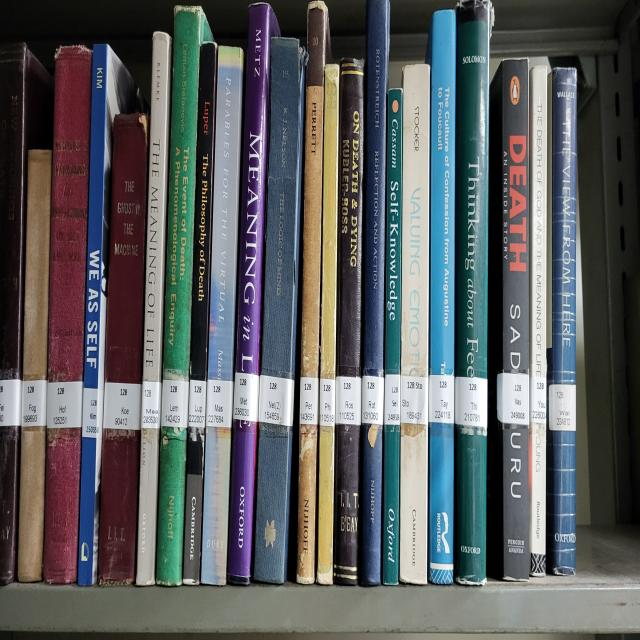Book: (78, 43, 139, 584), (156, 5, 212, 584), (228, 3, 279, 584), (0, 43, 54, 584), (254, 38, 305, 584), (42, 46, 92, 584), (201, 46, 244, 584), (99, 114, 148, 584), (489, 60, 530, 579), (454, 5, 490, 584), (296, 0, 330, 584), (182, 41, 218, 584), (136, 32, 171, 584), (426, 11, 456, 584), (361, 0, 390, 584), (546, 68, 578, 574), (334, 60, 364, 584), (400, 65, 430, 584), (18, 149, 52, 582), (316, 62, 340, 584), (382, 89, 402, 584), (529, 65, 548, 576), (371, 335, 372, 338)
Label: (259, 373, 294, 427), (104, 381, 141, 430), (455, 376, 488, 430), (496, 373, 530, 425), (46, 381, 82, 427), (161, 379, 189, 427), (206, 379, 234, 427), (549, 384, 576, 433), (429, 373, 454, 425), (21, 379, 48, 427), (234, 371, 259, 422), (335, 376, 361, 425), (362, 376, 384, 425), (0, 379, 22, 427), (82, 387, 102, 438), (141, 381, 161, 430), (300, 376, 319, 425), (384, 373, 400, 425), (189, 379, 206, 427), (530, 376, 546, 425), (320, 379, 335, 427), (60, 409, 62, 411)
